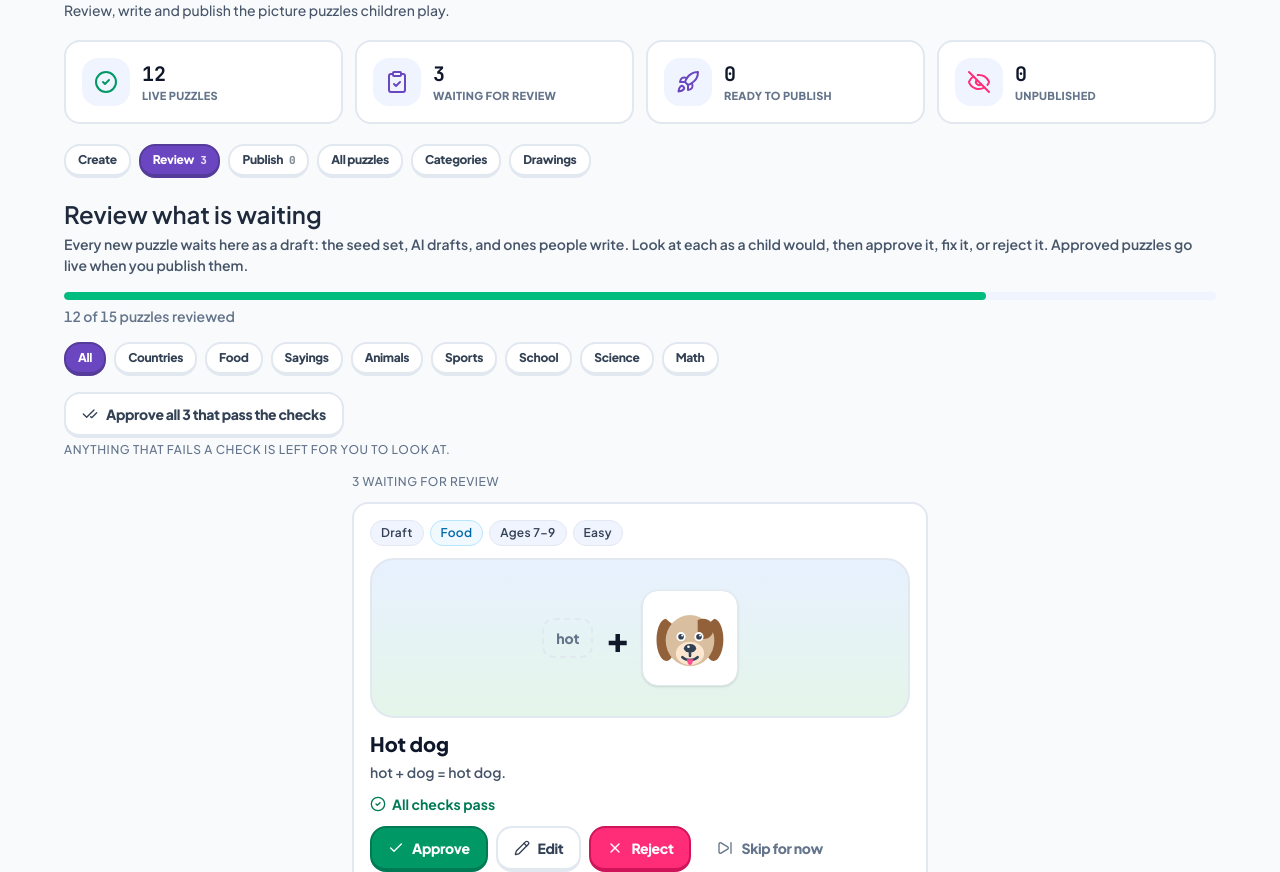
Test case: reviewing what is waiting › edits a puzzle in place, keeps it in the queue with the fix, and it can then be approved
Click the button "Edit".
click(538, 849)  # box [496,826,581,871]
(page scrolled)
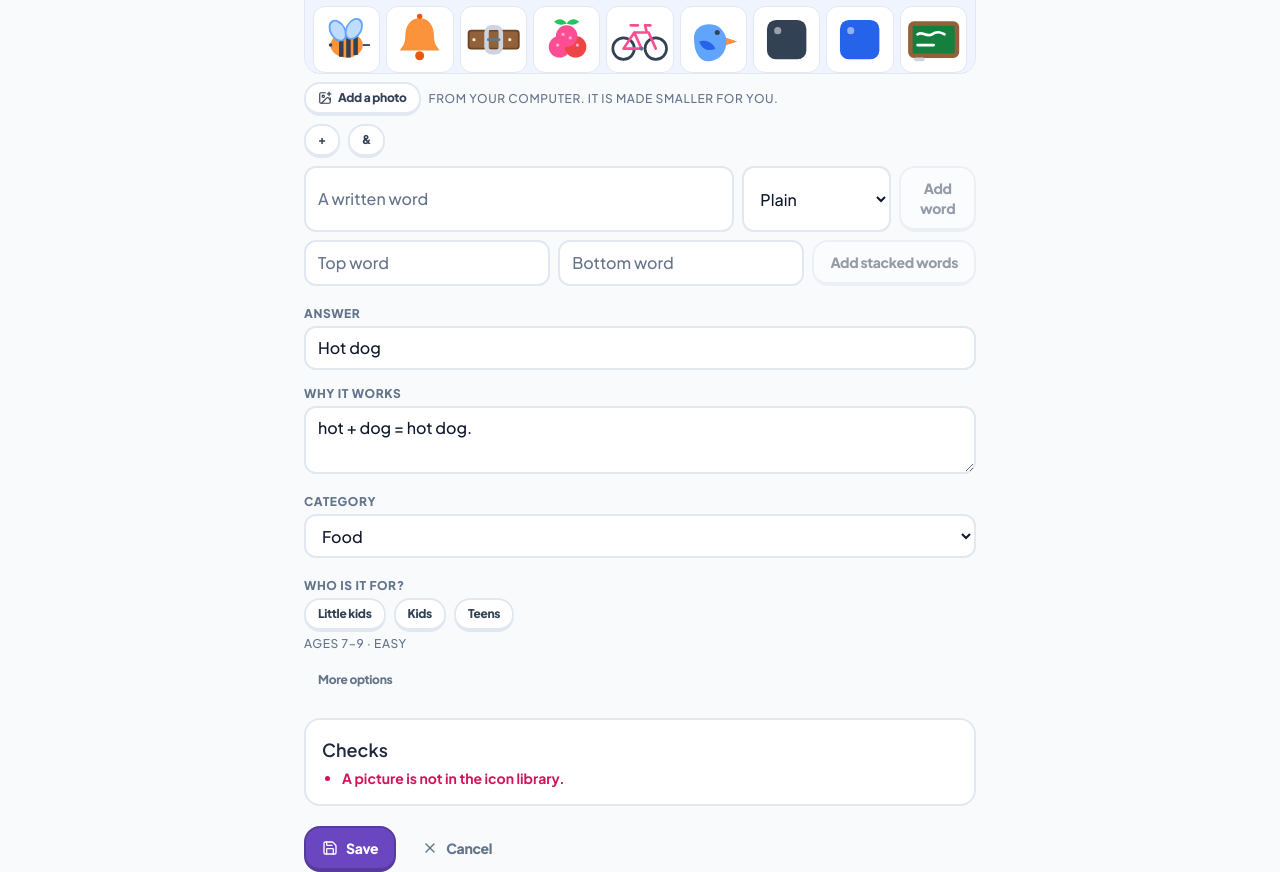
Replace the text in the text box showing "hot + dog = hot dog." with "hot + dog = a hot dog you eat." at point(640, 440), box [304,406,976,474]
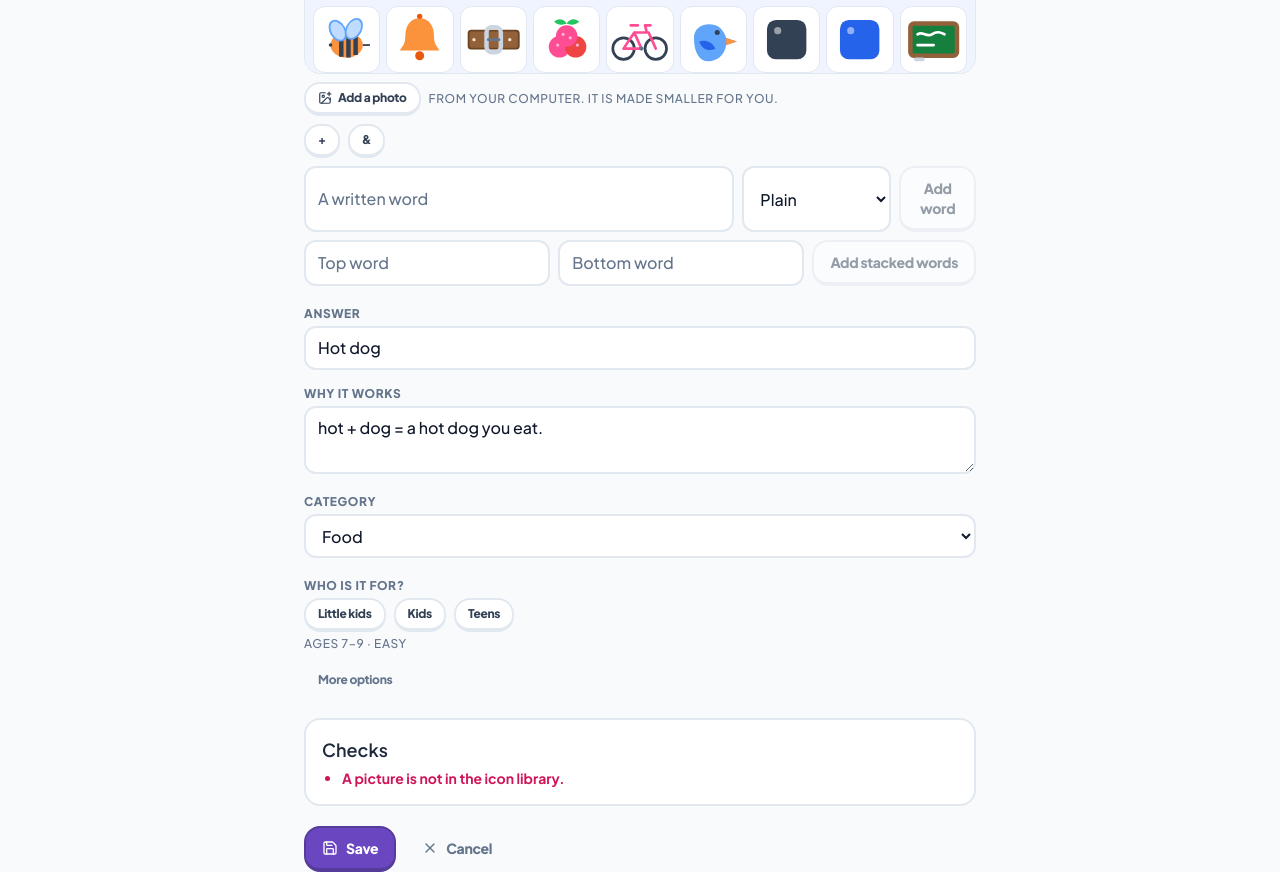
Click the button "Save".
click(350, 849)  # box [304,826,396,871]
(page scrolled)
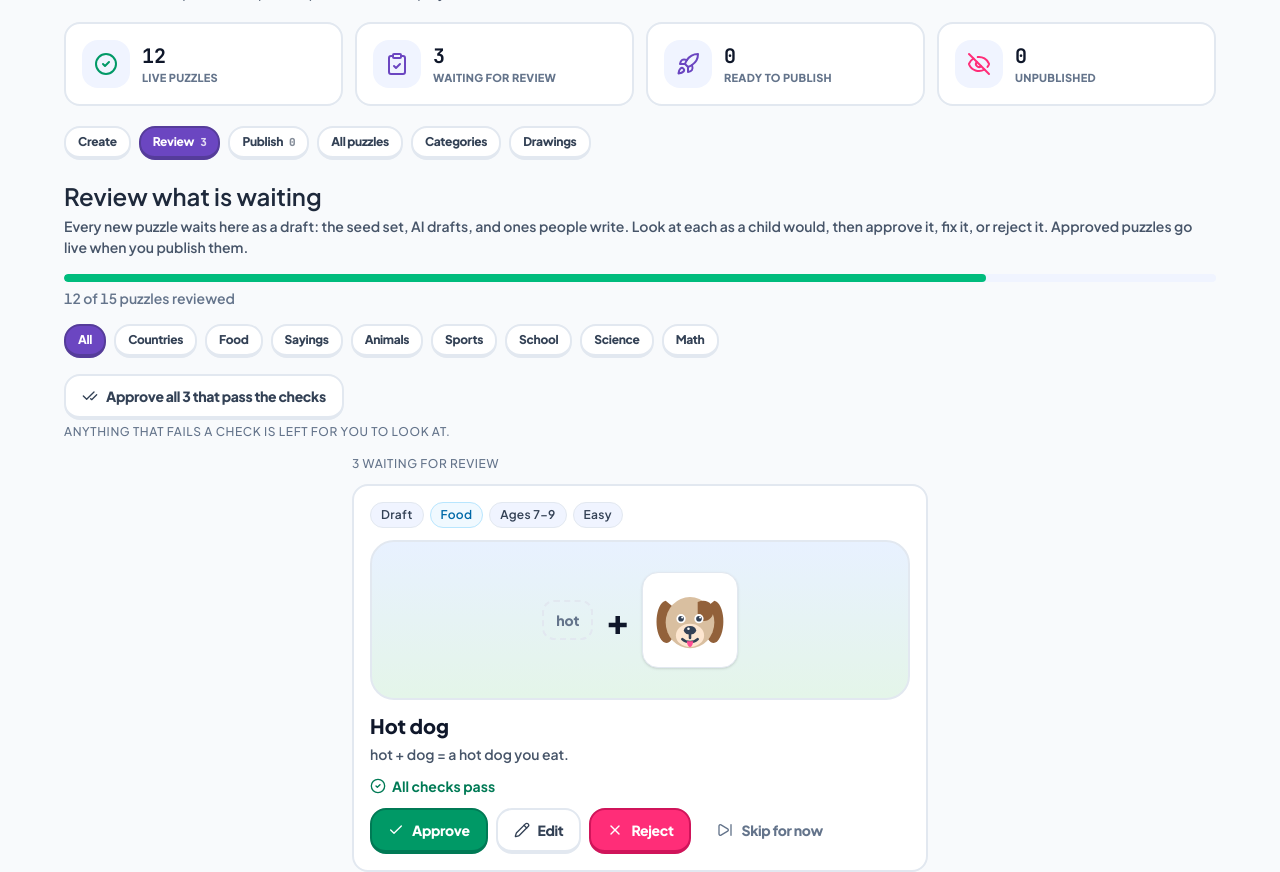
Check: the text "hot + dog = a hot dog you eat." is shown, box [370,745,569,763]
Check: the button "Approve" is shown, box [370,808,488,854]
Check: the text "3 waiting for review" is shown, box [352,456,499,471]
